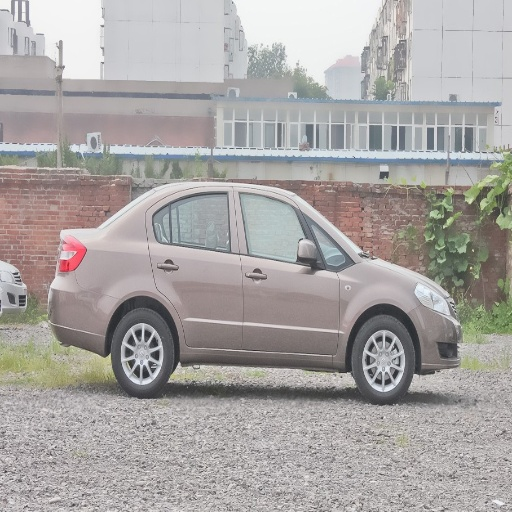back_right_door: (149, 185, 242, 348)
front_right_door: (236, 187, 344, 355)
